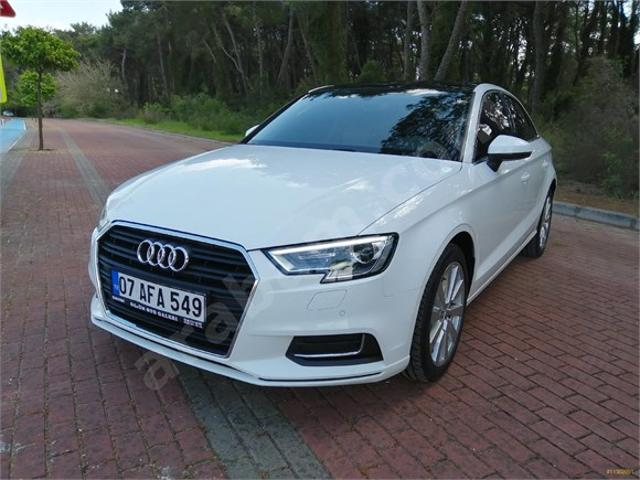audi: (133, 240, 193, 276)
